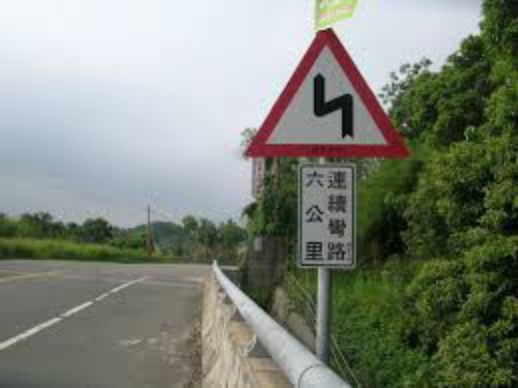Double_bend_left: (240, 26, 412, 161)
